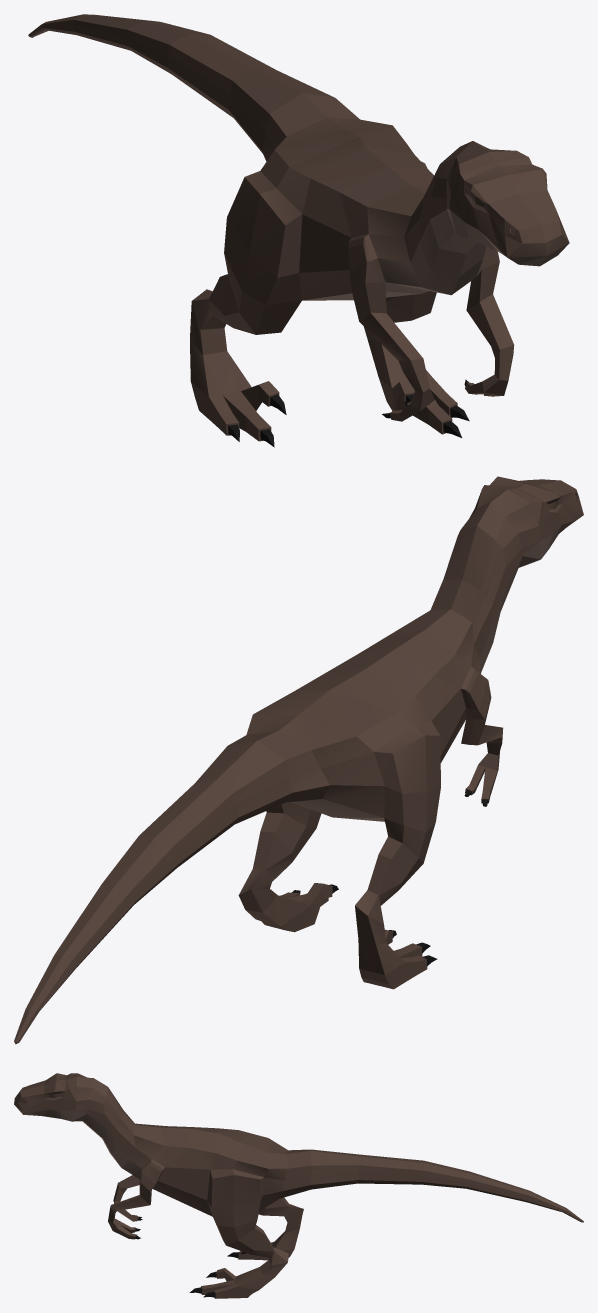
The model's file is dino-velociraptor.glb.
3 renders of one model, top to bottom at view 1: azimuth 30°, elevation 25°; view 2: azimuth 150°, elevation 25°; view 3: azimuth 270°, elevation 25°, orthographic. The views are drawn at different scales.
Visible parts, largest first — view 1: Cylinder, Cylinder_2, Cylinder_1; view 2: Cylinder, Cylinder_2; view 3: Cylinder, Cylinder_2.
Boxes of the visible parts, x1,y1,x2,y2 form: Cylinder: (28, 14, 569, 441); Cylinder_2: (31, 30, 569, 300); Cylinder_1: (228, 379, 469, 447); Cylinder: (14, 476, 583, 1044); Cylinder_2: (292, 516, 581, 821); Cylinder: (14, 1073, 583, 1298); Cylinder_2: (15, 1106, 140, 1178).
Bounding box in the file's own units: 0.478 × 0.9237 × 2.43.
